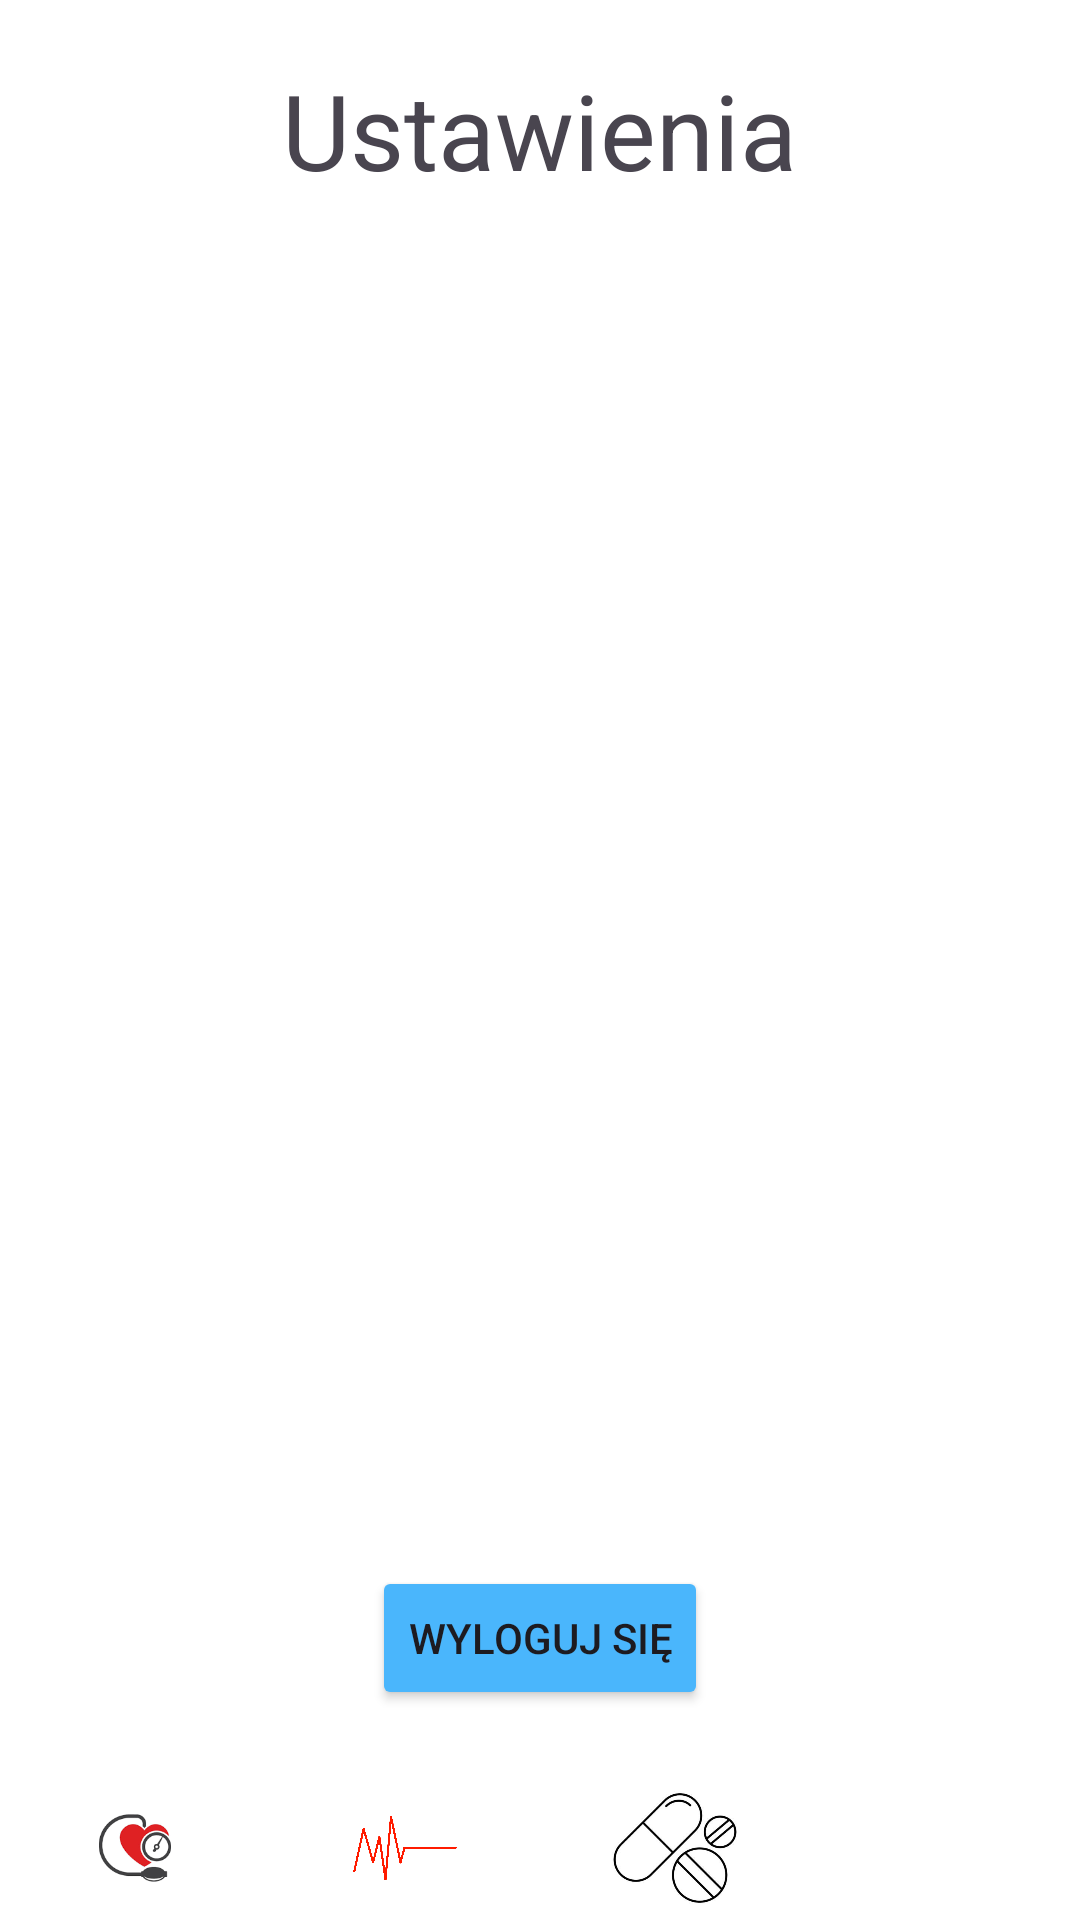

Named icons in this screenshot (1080x1920) and their bounding boxes, (x1, y1, x2, y2):
pills: (613, 1793, 737, 1903)
